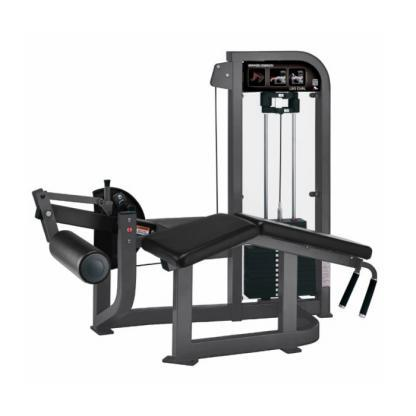reg curl machine: (30, 48, 381, 369)
